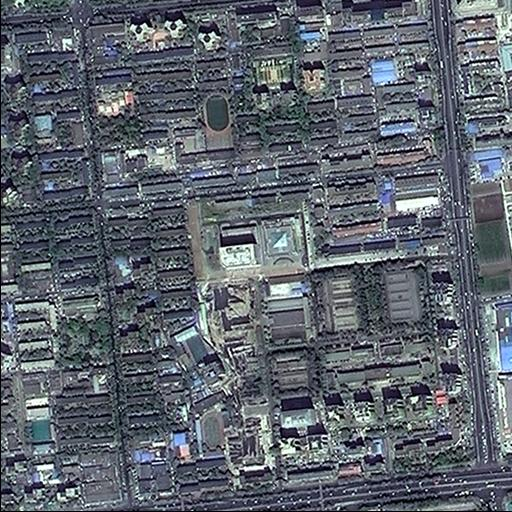school: (172, 90, 239, 168), (191, 390, 228, 459), (170, 322, 218, 366), (22, 405, 55, 447)
